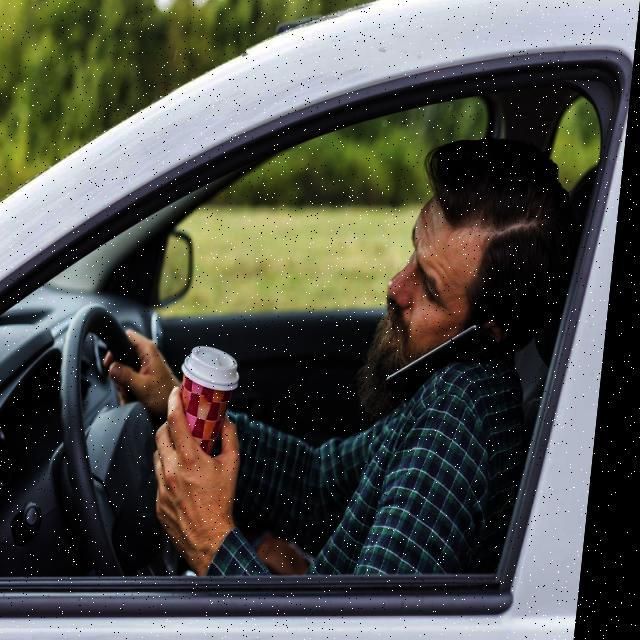noSeatbelt: (297, 333, 540, 582)
